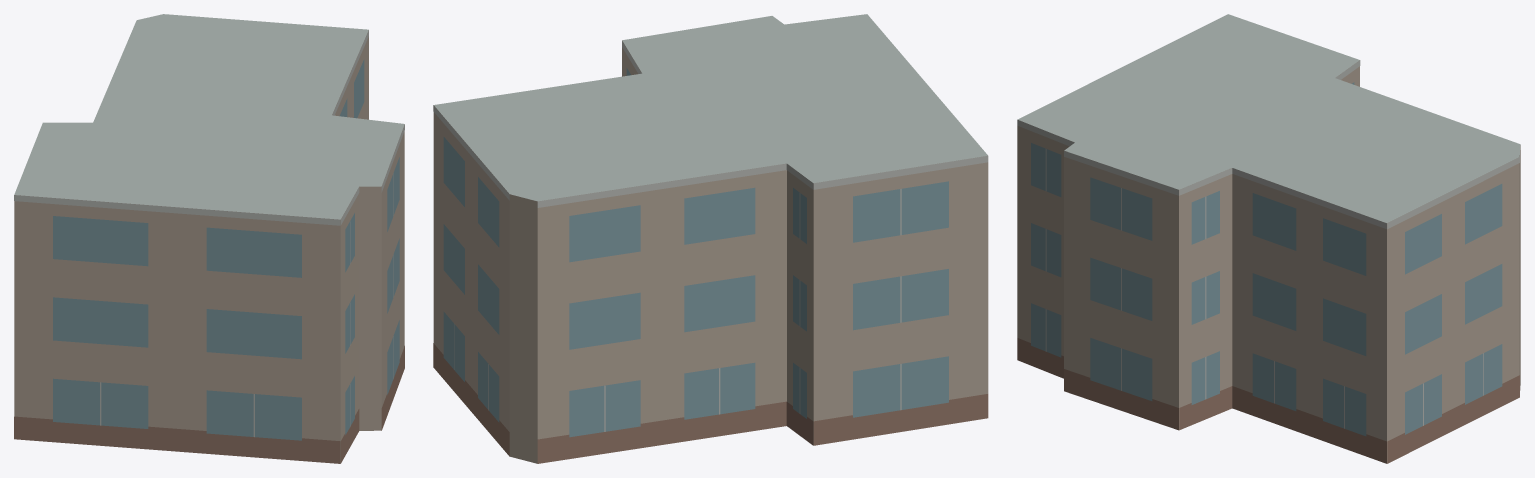
File: survey-upis-32619257.glb
3 views of the same model, side by side, from view 1: azimuth 30°, elevation 25°; view 2: azimuth 150°, elevation 25°; view 3: azimuth 270°, elevation 25° (orthographic). The views are drawn at different scales.
Parts seen in each view (by area): view 1: survey-upis-32619257.tmp; view 2: survey-upis-32619257.tmp; view 3: survey-upis-32619257.tmp.
Part boxes in pixels (<box>): survey-upis-32619257.tmp: <box>14,14,404,463</box>; survey-upis-32619257.tmp: <box>433,14,988,463</box>; survey-upis-32619257.tmp: <box>1017,14,1520,463</box>.
Size of the model in its own units: 18.11 by 9.7 by 18.39.
